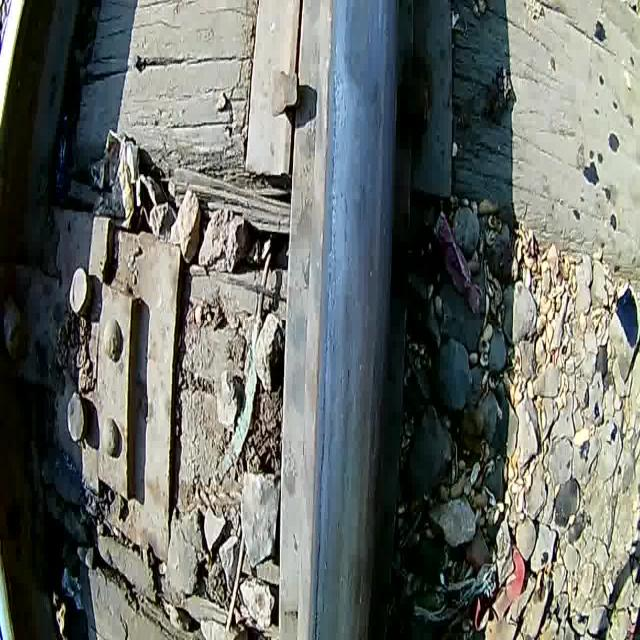Squats: (283, 0, 420, 640)
